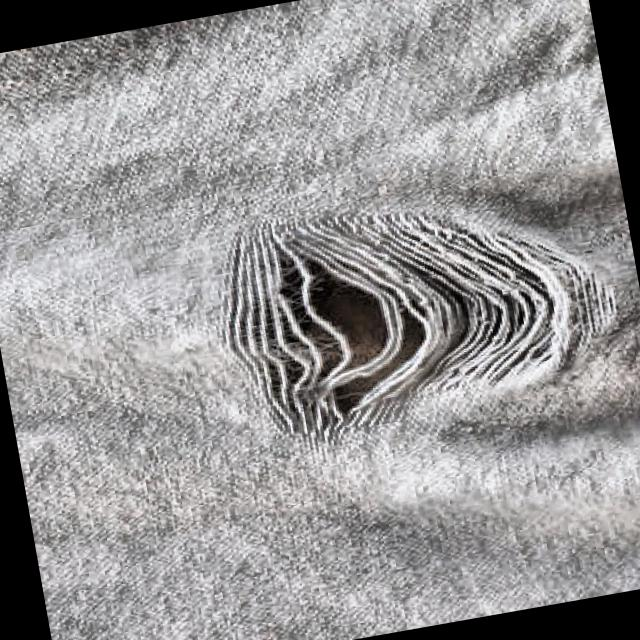hole: (196, 157, 640, 465)
